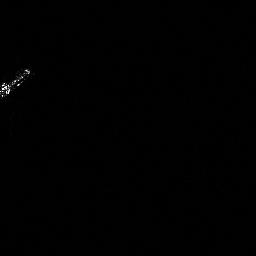ship: (1, 67, 30, 99)
